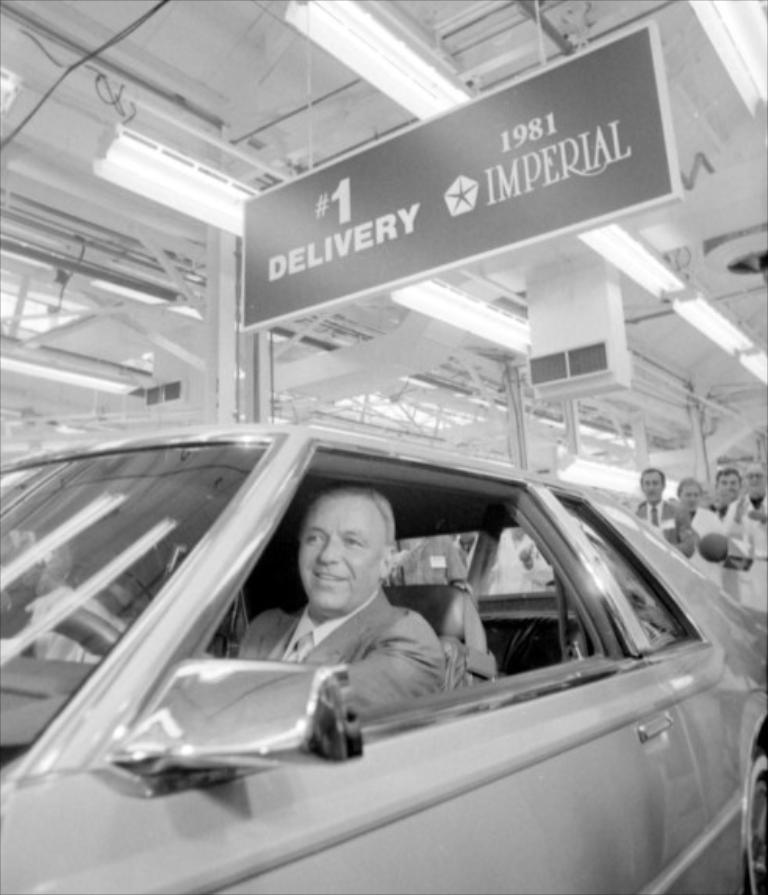Car: (0, 419, 766, 893)
